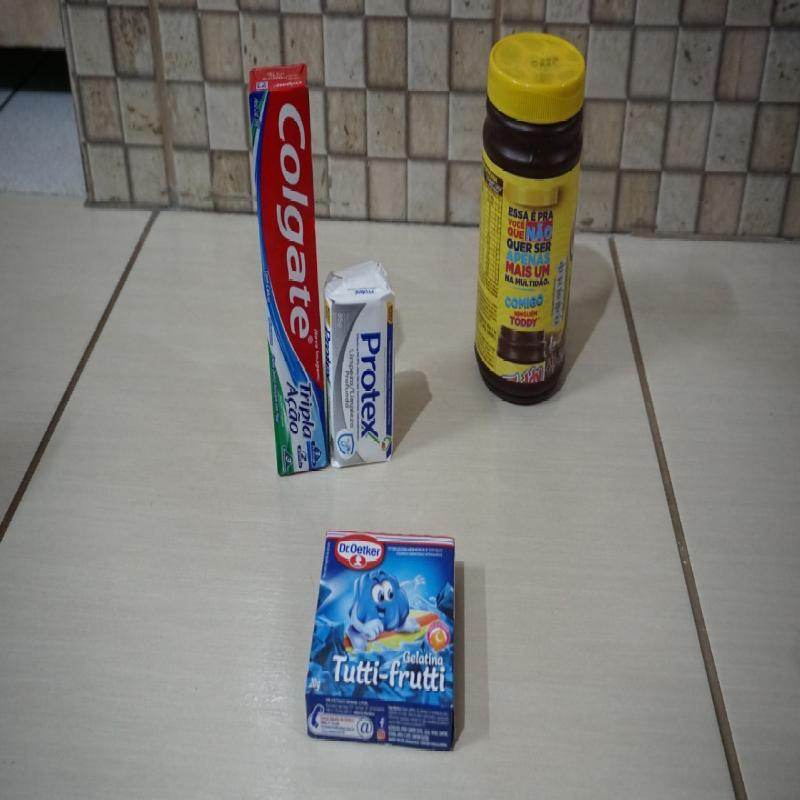Chocolate Powder: (473, 31, 586, 408)
Gelatine: (306, 527, 457, 755)
Soap: (324, 261, 396, 468)
Toothpaste: (248, 60, 330, 479)
